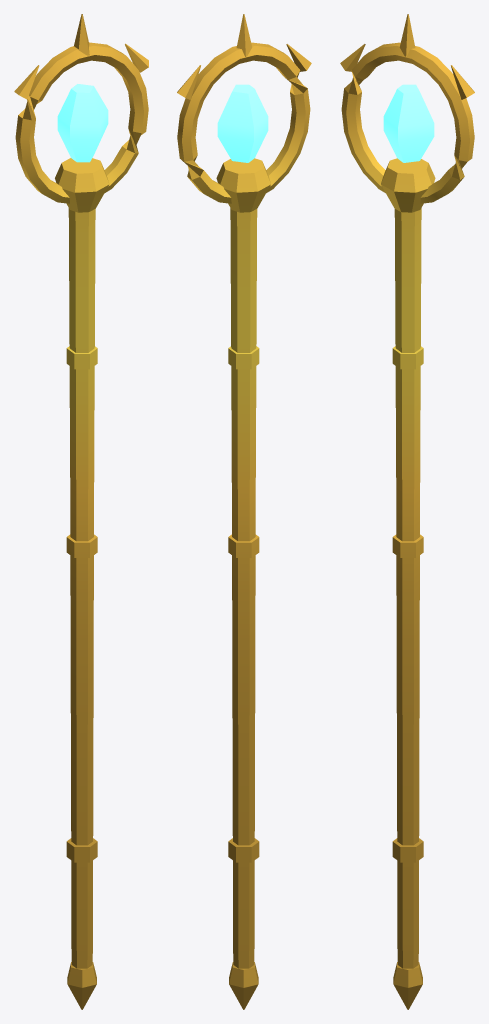
Rendered from Weapon_SunStaff.fbx.
3 views of the same model, side by side, from view 1: azimuth 30°, elevation 25°; view 2: azimuth 210°, elevation 25°; view 3: azimuth 330°, elevation 25° (orthographic).
Visible parts, largest first — view 1: SunStaff; view 2: SunStaff; view 3: SunStaff.
Part boxes in pixels (x1,y1,x2,y2): SunStaff: (14,14,148,1009); SunStaff: (177,14,311,1009); SunStaff: (340,14,474,1009).
Bounding box in the file's own units: 0.2158 × 1.55 × 0.08.
